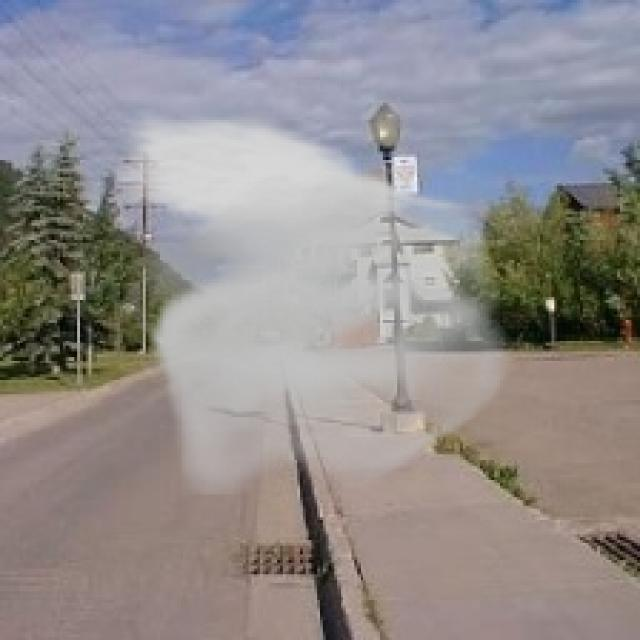Smoke: (103, 109, 523, 498)
